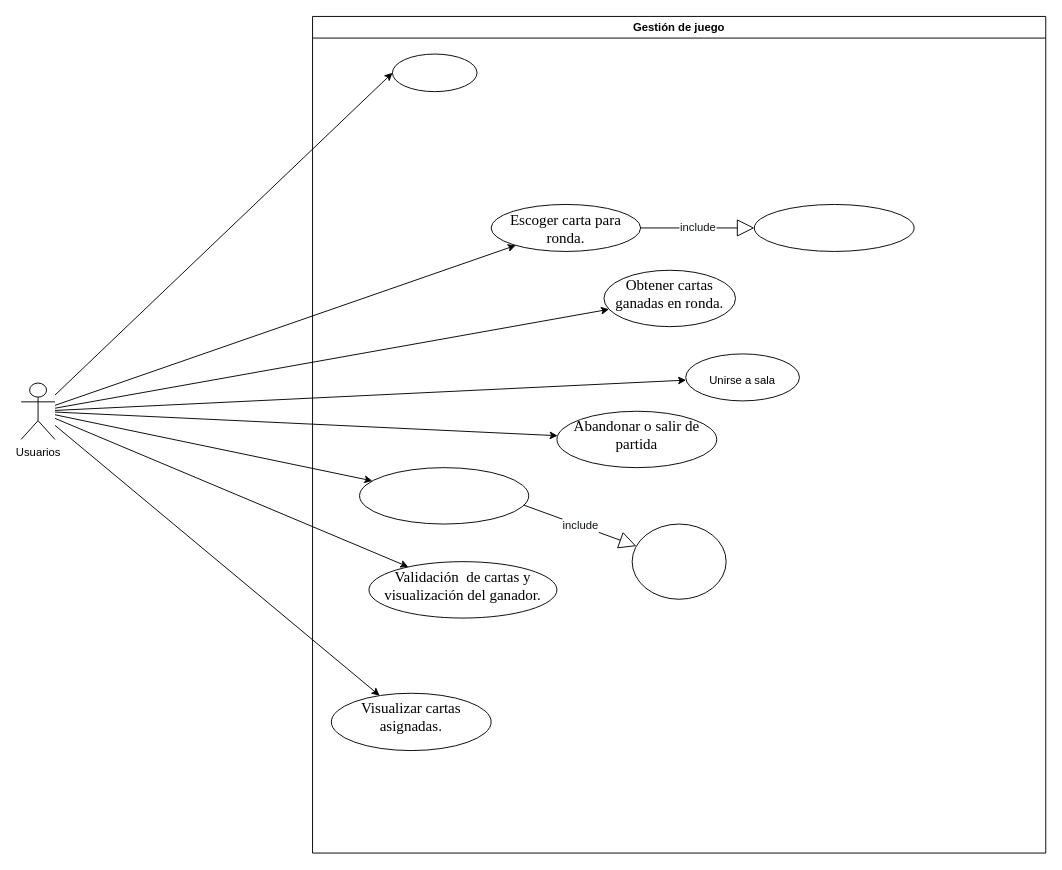
Some shapes in this 1062 by 870 pixel diagram are drawn without their labels. The centre of each missing label's shape, as x and y in pixels:
"Crear una sala." belongs at pixel 434 72.
"Escoger atributos para ronda." belongs at pixel 833 227.
"Validar y visualizar ganador de partida" belongs at pixel 444 495.
"Visualizar tabla de clasificación" belongs at pixel 678 561.
